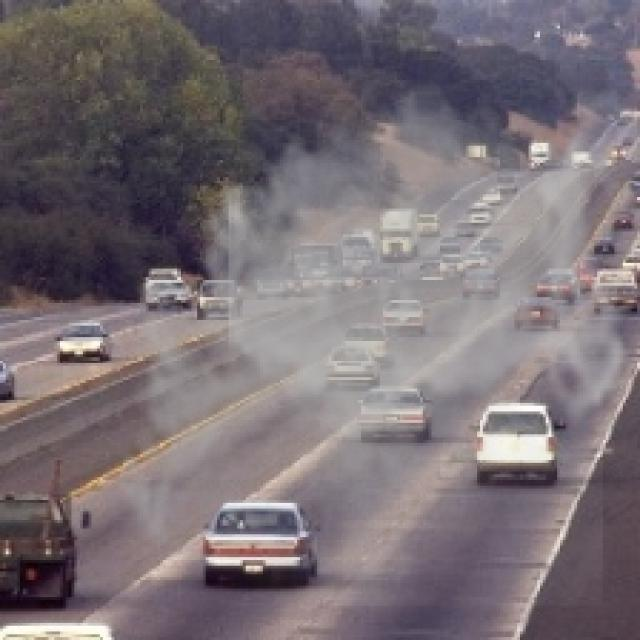Smoke: (102, 63, 638, 606)
